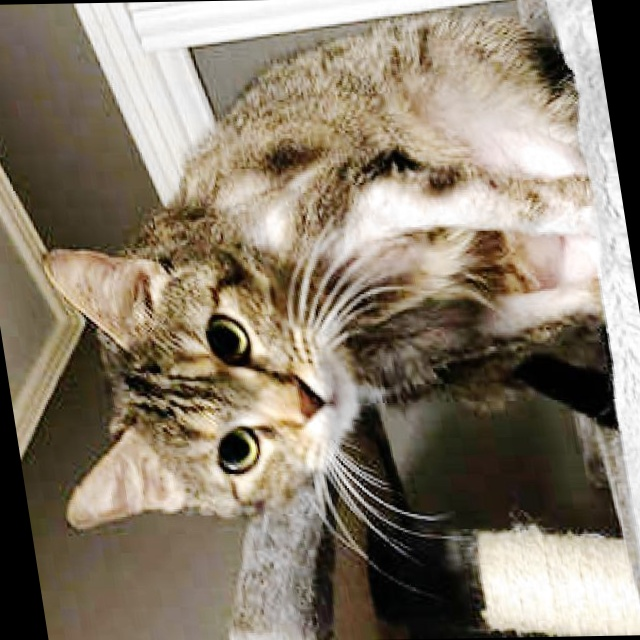hairloss: (359, 189, 536, 234), (435, 119, 580, 168), (488, 279, 606, 337)
